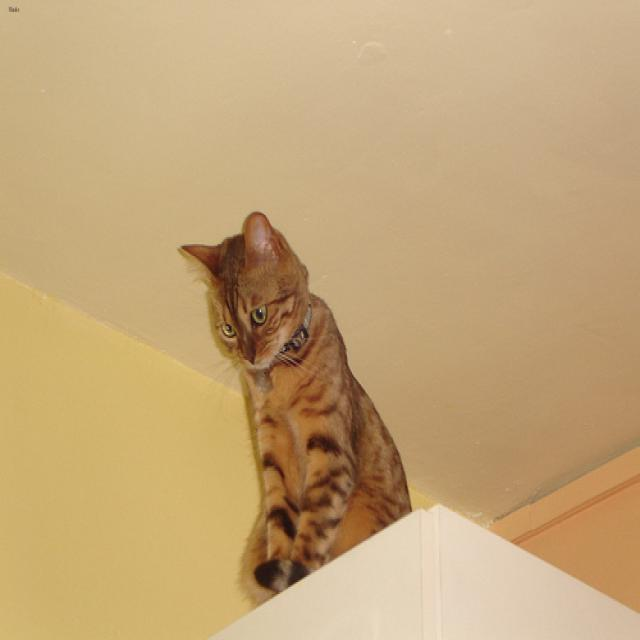Bengal: (179, 210, 307, 369)
